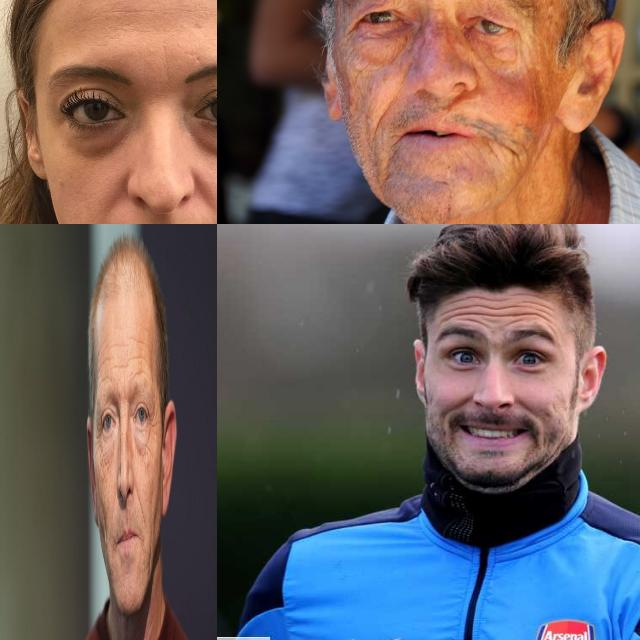crows_feet: (95, 422, 104, 456), (147, 405, 158, 431)
forehead: (523, 298, 559, 328), (447, 298, 485, 322), (104, 4, 160, 20), (490, 298, 518, 328), (130, 330, 149, 372), (99, 334, 111, 386)
frown_line: (156, 47, 174, 85), (117, 384, 128, 408)
gummy_smile: (366, 100, 390, 138), (438, 393, 474, 413), (104, 184, 126, 213), (193, 174, 214, 204), (514, 392, 540, 416), (135, 484, 144, 521), (109, 494, 118, 525)
masseter: (488, 135, 524, 165), (101, 512, 108, 556), (144, 444, 153, 474), (147, 533, 153, 574), (100, 463, 108, 487)
